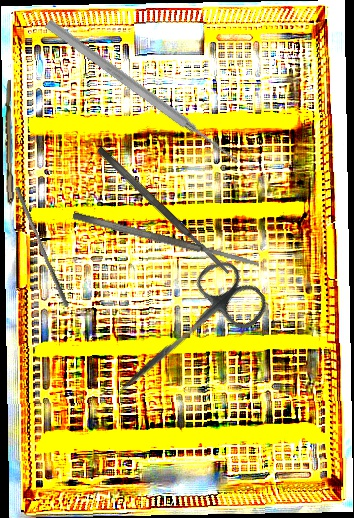Iris Scissors: (97, 251, 274, 421)
Pusher: (43, 17, 242, 168), (9, 185, 75, 309)
Spatula Surgical: (95, 145, 232, 277), (71, 210, 261, 270)
Surgical Spoon: (2, 80, 17, 246)
